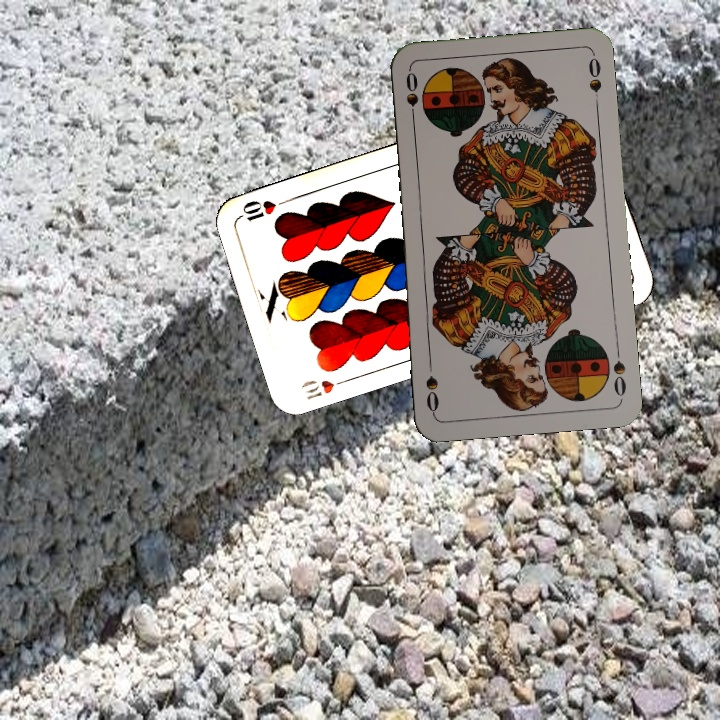H10: (297, 374, 354, 402)
SO: (401, 68, 421, 126), (609, 341, 629, 399)
